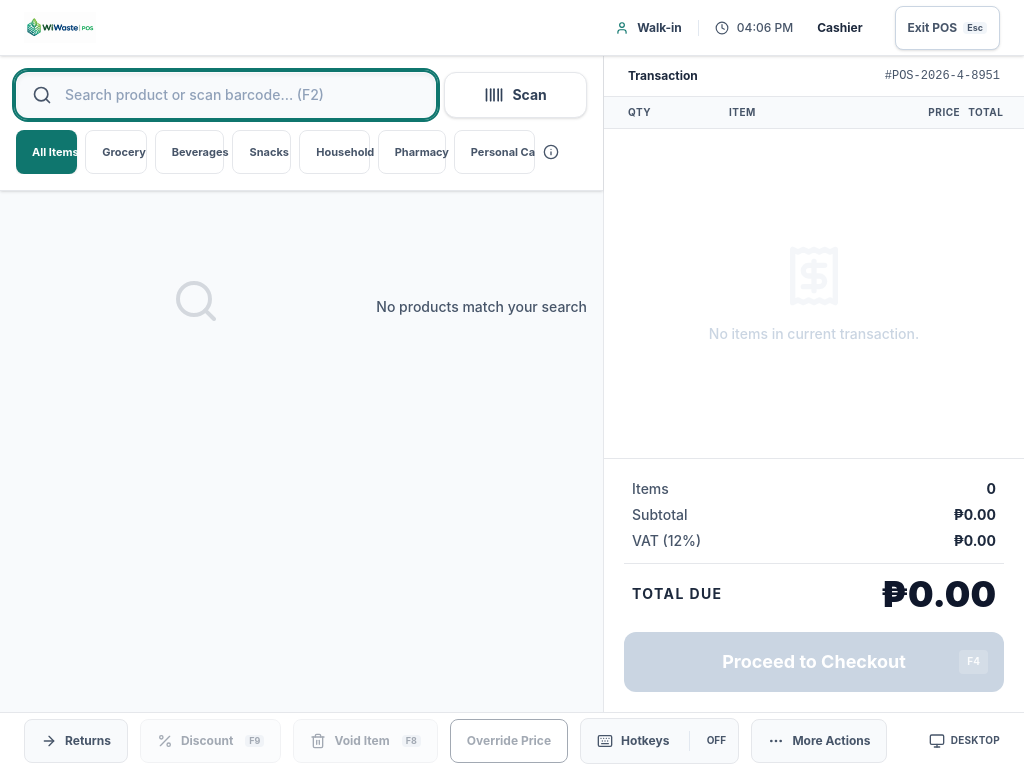
Barcode scan handling › surfaces a "not found" toast and leaves the cart empty
The width and height of the screenshot is (1024, 768).
Type "000000" into the field with placeholder "Search product or scan barcode... (F2)". click: (226, 95)
box: [16, 72, 436, 118]
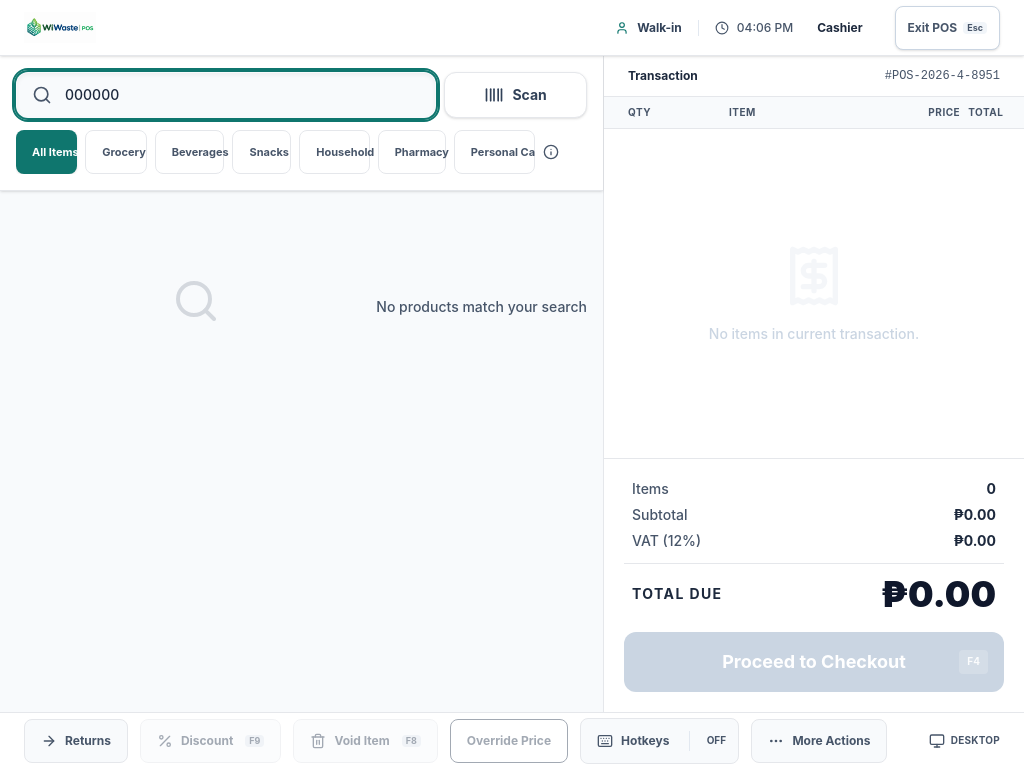
Press Enter in the field with placeholder "Search product or scan barcode... (F2)", box [16, 72, 436, 118]
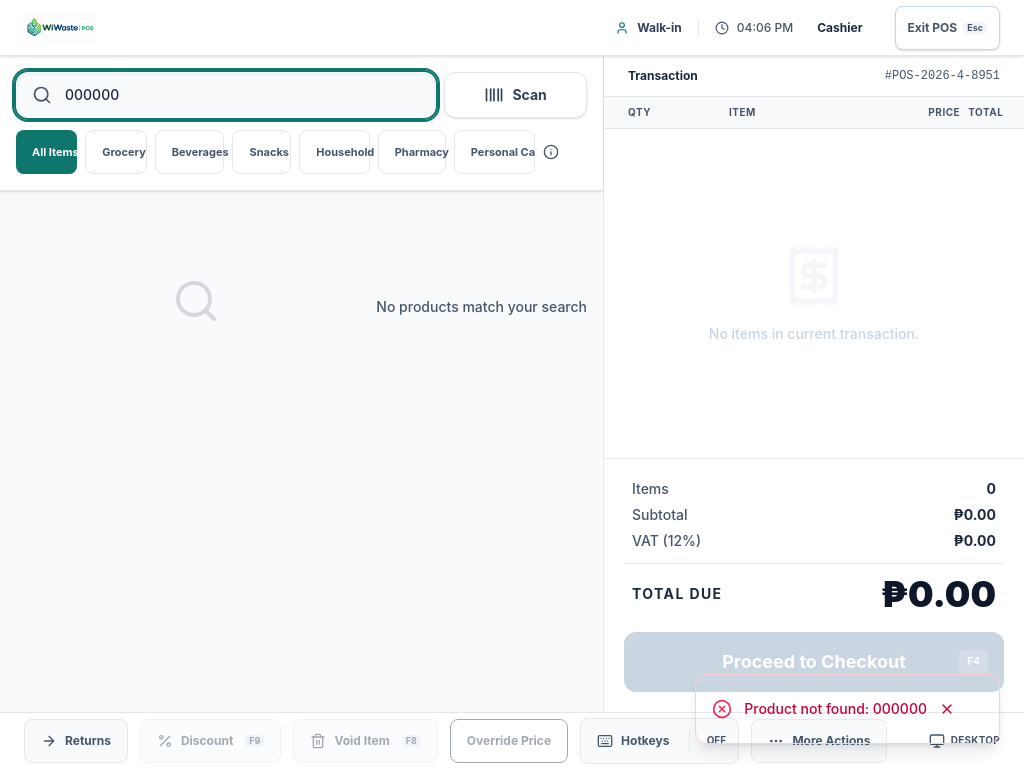
Check: the text "No items in current transaction." is shown, box [709, 324, 919, 344]
Check: the text "Product not found: 000000" is shown, box [744, 699, 927, 719]
